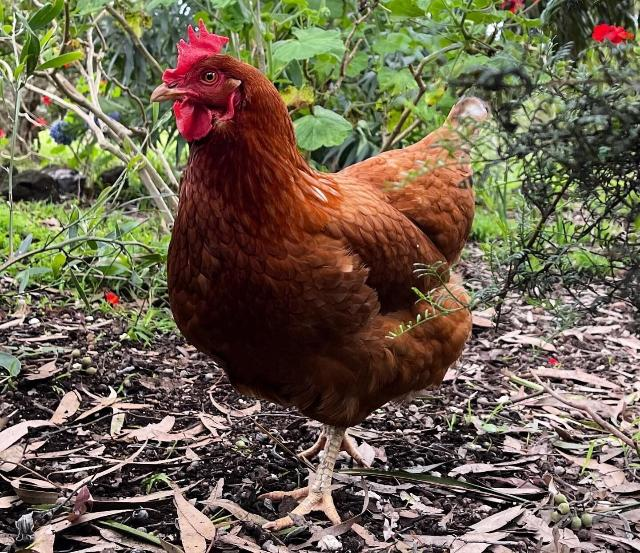Chicken: (150, 17, 484, 526)
